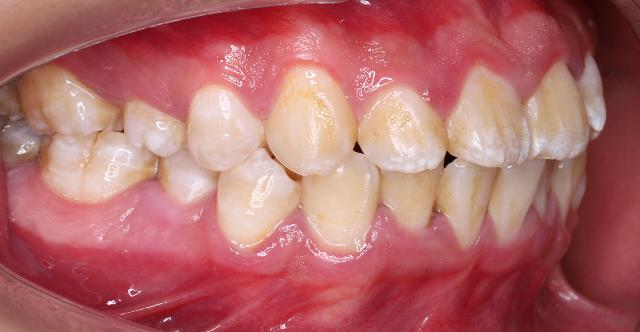canine class II 1/4: (218, 53, 384, 267)
molar class III 1/2: (14, 58, 158, 208)
